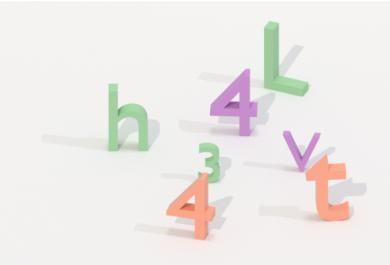3: (193, 138, 223, 188)
4: (203, 63, 261, 141), (163, 169, 217, 242)
L: (259, 17, 312, 100)
V: (279, 124, 323, 175)
h: (104, 79, 153, 158)
